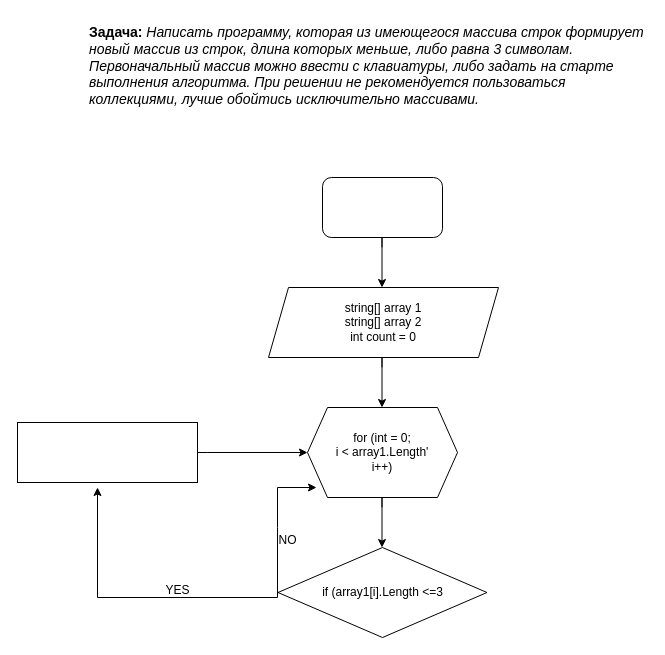
Image size: 665x655. Some labels were removed from this diagram. The box of each missing label's shape, as (x1, y1, x2, y2) in pixels:
array2 [count] = array 1 [i] count ++;: (16, 422, 198, 482)
Second ArrayWithIf: (322, 176, 442, 238)
